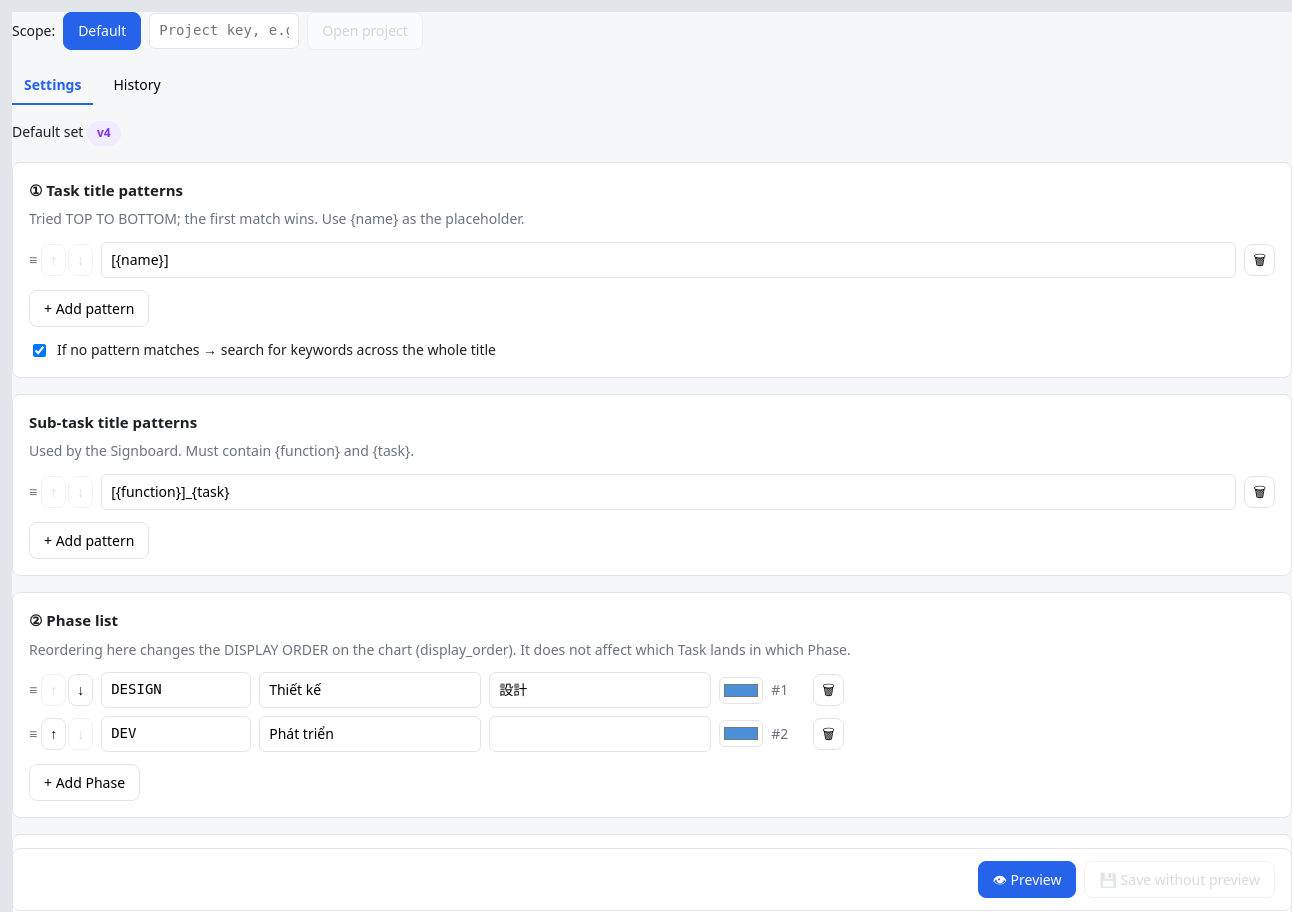
Test: ConfigPhaseScreen › sửa một ô thì hiện chỉ báo chưa lưu
Expected: the heading "② Phase list" is shown, [29,610,118,630]
Type "X" into the field named "Vietnamese label, row 1" at (370, 690), box [259,672,481,708]
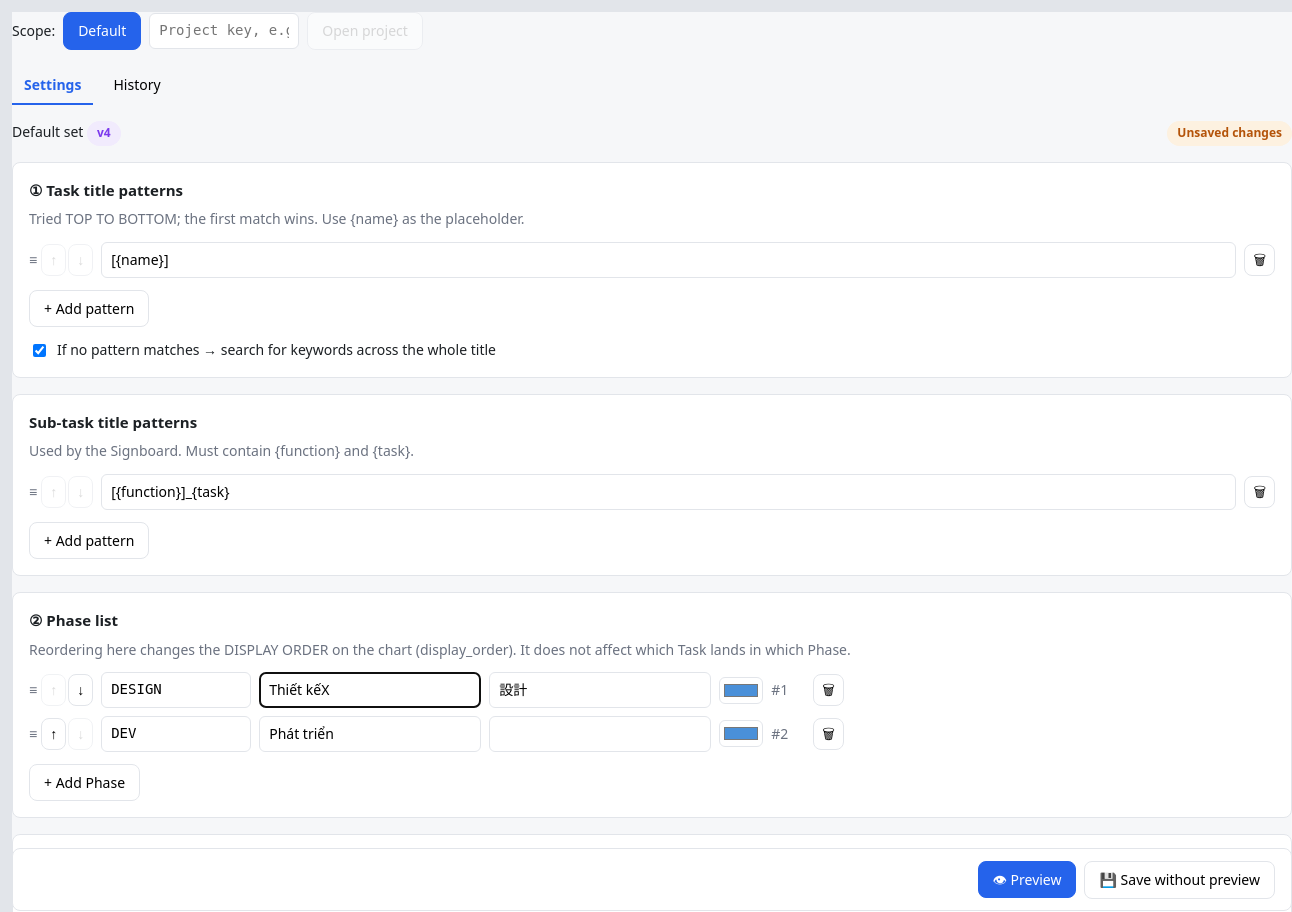
Result: the text "Unsaved changes" is shown at [1167,121,1291,146]
